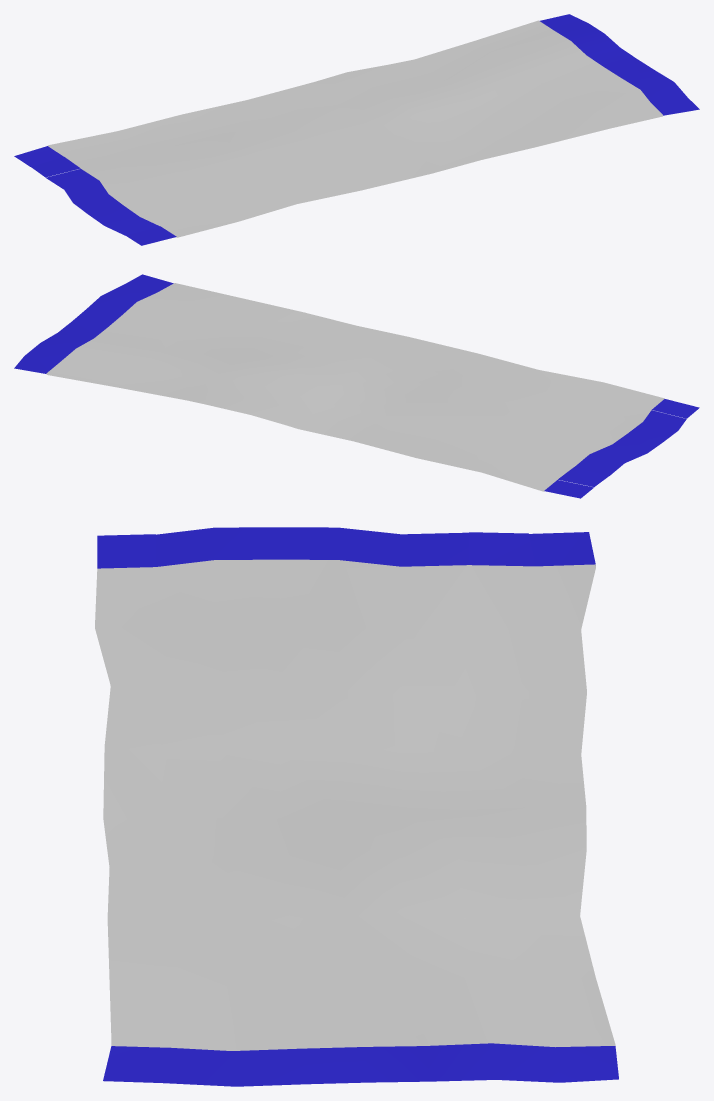
Rendered from rug.fbx.
3 views of the same model, one above another, from view 1: azimuth 30°, elevation 25°; view 2: azimuth 150°, elevation 25°; view 3: azimuth 270°, elevation 25° (orthographic). The views are drawn at different scales.
Parts seen in each view (by area): view 1: Plane.025; view 2: Plane.025; view 3: Plane.025.
Part boxes in pixels (x1=…): Plane.025: x1=14, y1=14, x2=699, y2=245; Plane.025: x1=14, y1=274, x2=699, y2=498; Plane.025: x1=95, y1=527, x2=618, y2=1086.
Bounding box in the file's own units: 812 × 9.5 × 322.
